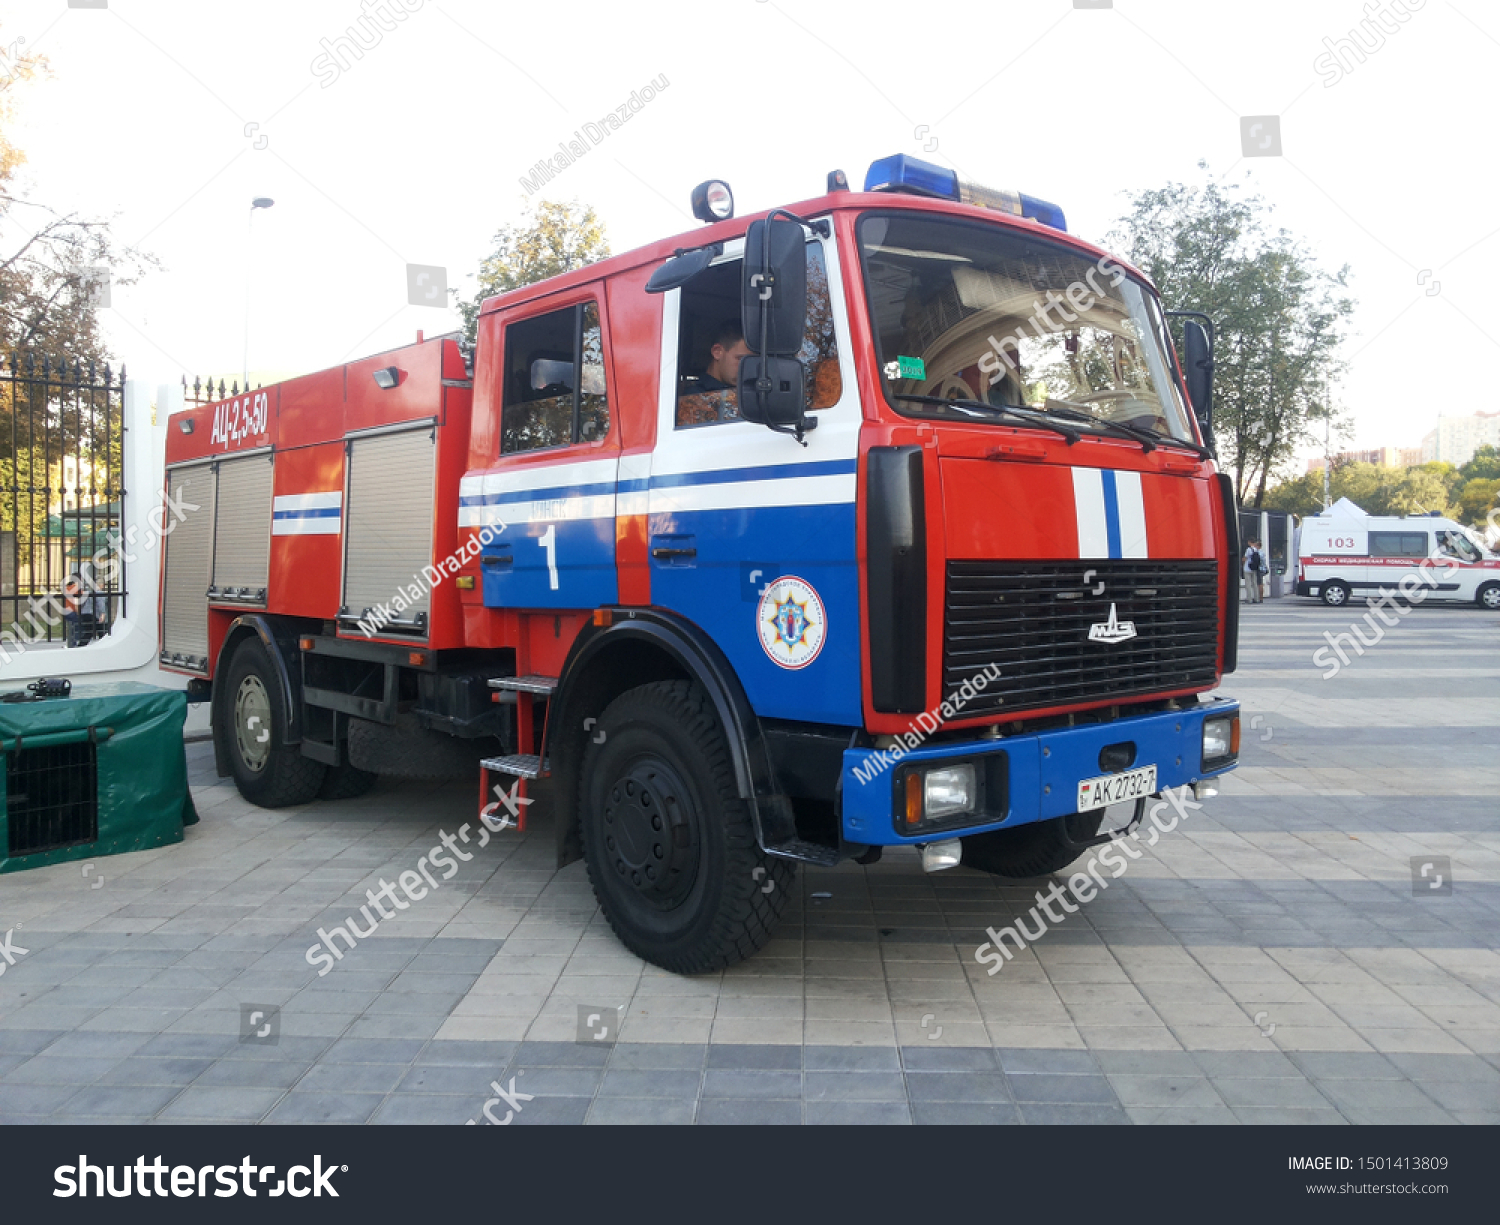special: (154, 153, 1245, 973), (1292, 513, 1500, 608)
